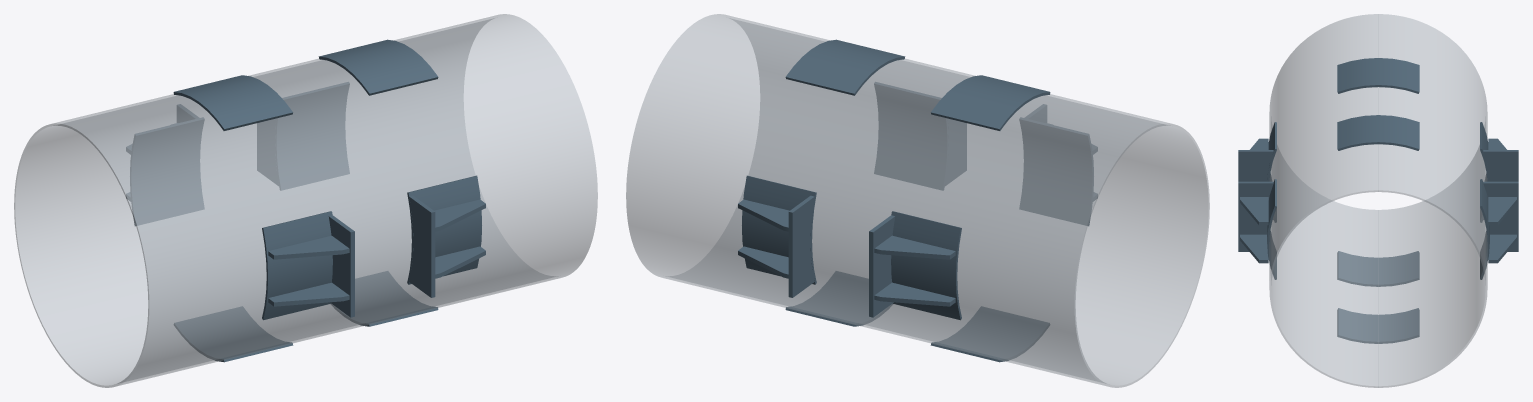
The model's file is TS-663.00.00-09-opora-dn920.glb.
3 views of the same model, side by side, from view 1: azimuth 30°, elevation 25°; view 2: azimuth 150°, elevation 25°; view 3: azimuth 270°, elevation 25° (orthographic). The views are drawn at different scales.
Parts seen in each view (by area): view 1: truba, det_16, det_12, det_8, det_18, det_17, det_20, det_4, det_19, det_1, det_5, det_7 (+4 smaller); view 2: truba, det_8, det_4, det_16, det_18, det_17, det_20, det_12, det_19, det_9, det_13, det_14 (+4 smaller); view 3: truba, det_18, det_17, det_19, det_20, det_1, det_9, det_5, det_13, det_4, det_12, det_2 (+5 smaller).
Part boxes in pixels (<box>): truba: <box>14,14,597,387</box>; det_16: <box>130,117,204,226</box>; det_12: <box>275,82,349,190</box>; det_8: <box>262,211,332,320</box>; det_18: <box>173,75,292,130</box>; det_17: <box>318,39,438,95</box>; det_20: <box>174,306,293,362</box>; det_4: <box>407,175,481,284</box>; det_19: <box>331,271,438,326</box>; det_1: <box>409,195,435,297</box>; det_5: <box>328,215,354,317</box>; det_7: <box>268,282,349,306</box>; truba: <box>626,14,1209,387</box>; det_8: <box>1019,117,1093,226</box>; det_4: <box>874,82,948,190</box>; det_16: <box>891,211,961,320</box>; det_18: <box>931,75,1050,130</box>; det_17: <box>785,39,905,95</box>; det_20: <box>930,306,1049,362</box>; det_12: <box>742,175,816,284</box>; det_19: <box>785,271,892,326</box>; det_9: <box>788,195,814,297</box>; det_13: <box>869,215,895,317</box>; det_14: <box>874,282,955,306</box>; truba: <box>1269,14,1487,387</box>; det_18: <box>1337,58,1419,93</box>; det_17: <box>1337,115,1419,150</box>; det_19: <box>1337,308,1419,343</box>; det_20: <box>1337,251,1419,286</box>; det_1: <box>1238,181,1273,251</box>; det_9: <box>1483,181,1518,251</box>; det_5: <box>1238,150,1273,181</box>; det_13: <box>1483,150,1518,181</box>; det_4: <box>1267,179,1276,279</box>; det_12: <box>1480,179,1489,279</box>; det_2: <box>1240,197,1268,225</box>.
Bounding box in the file's own units: 1760 × 940 × 1184.
